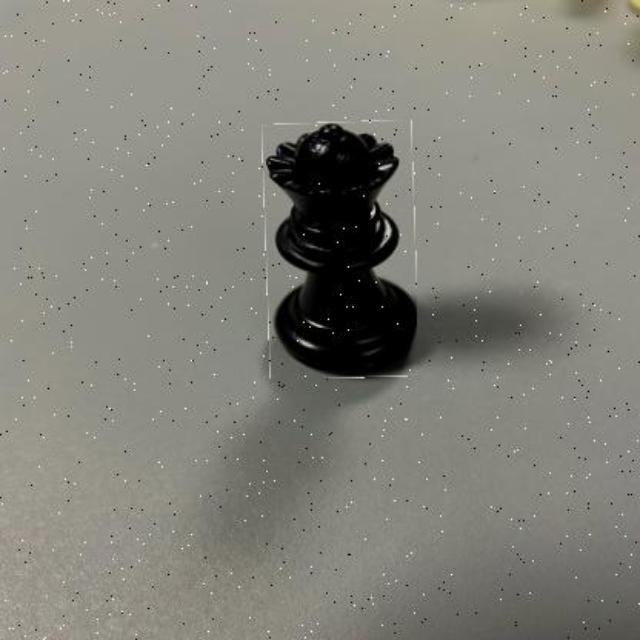black-queen: (265, 123, 417, 379)
